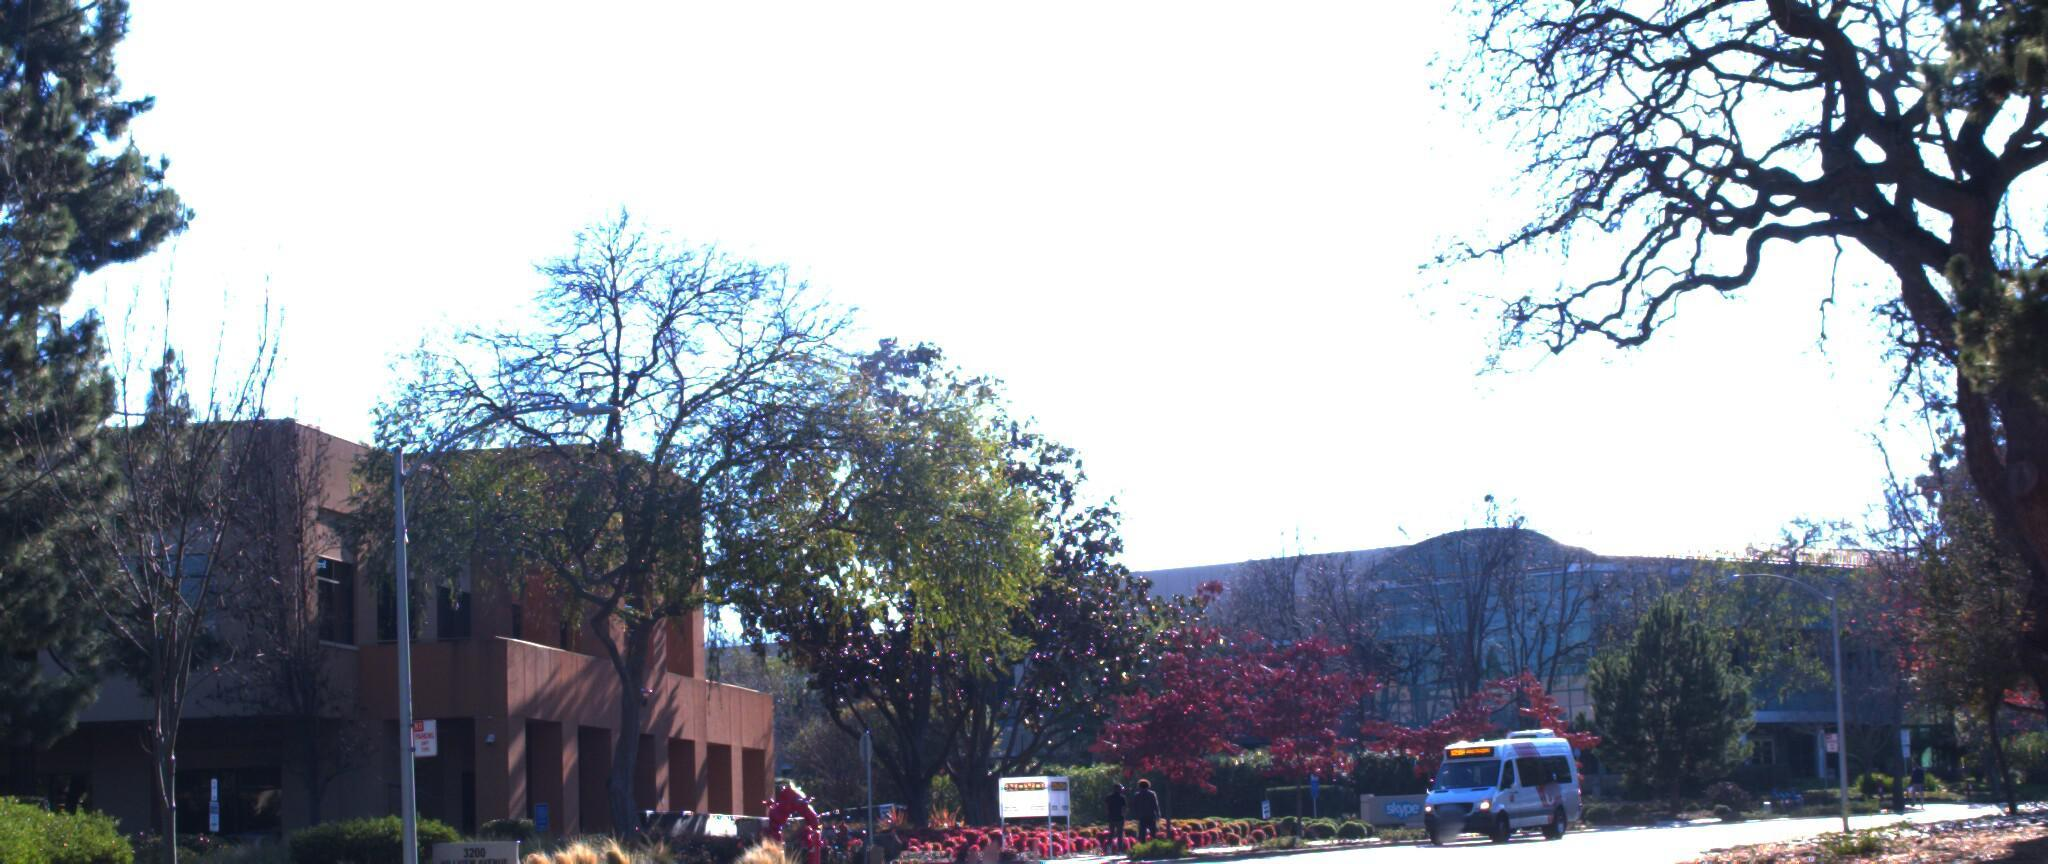bus: (1401, 719, 1599, 851)
